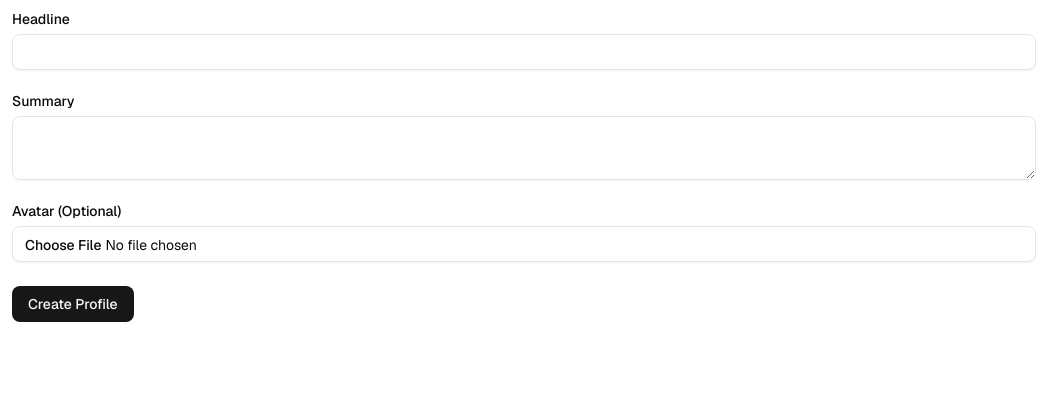
Test: CreateProfileForm › shows validation errors
Click the button with test id "submit-profile".
click(73, 304)  # box [12, 286, 134, 322]
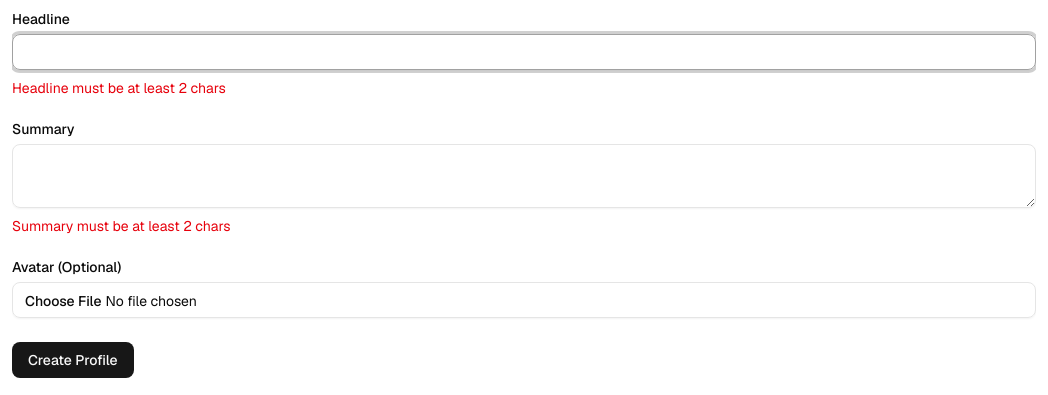
Check: the text "Headline must be at least 2 chars" is shown, box [12, 79, 226, 97]
Check: the text "Summary must be at least 2 chars" is shown, box [12, 217, 230, 235]
